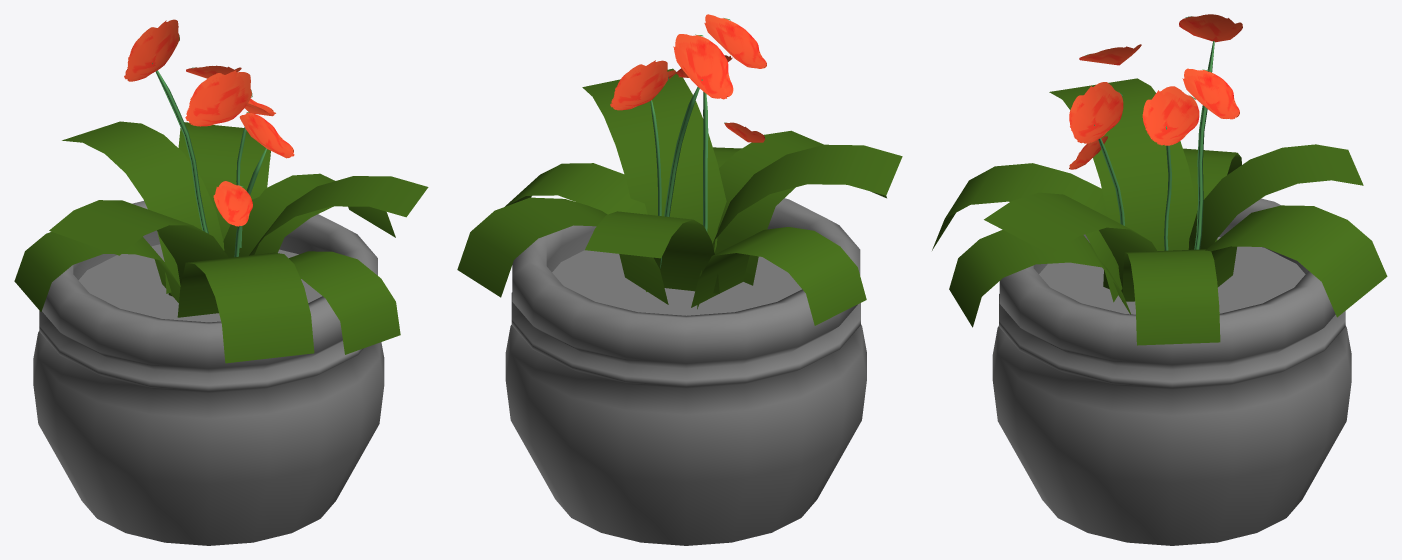
The model's file is SM_flowerpot_01.fbx.
3 renders of one model, left to right at view 1: azimuth 30°, elevation 25°; view 2: azimuth 150°, elevation 25°; view 3: azimuth 270°, elevation 25°, orthographic. The views are drawn at different scales.
Visible parts, largest first — view 1: Cylinder069; view 2: Cylinder069; view 3: Cylinder069.
Part boxes in pixels (x1,y1,x2,y2): Cylinder069: (14, 19, 428, 545); Cylinder069: (457, 14, 902, 545); Cylinder069: (932, 14, 1387, 545).
Bounding box in the file's own units: 24.23 × 30.69 × 26.97.
